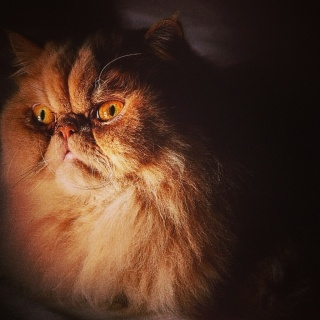Cat: (0, 10, 252, 320)
